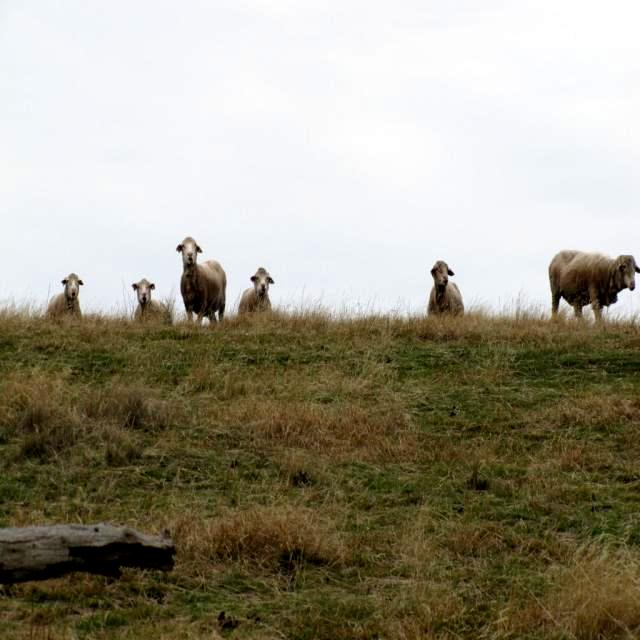sheep: (548, 250, 638, 317), (176, 236, 225, 320), (427, 260, 463, 315), (133, 278, 170, 318), (50, 273, 81, 317), (238, 270, 272, 308)
